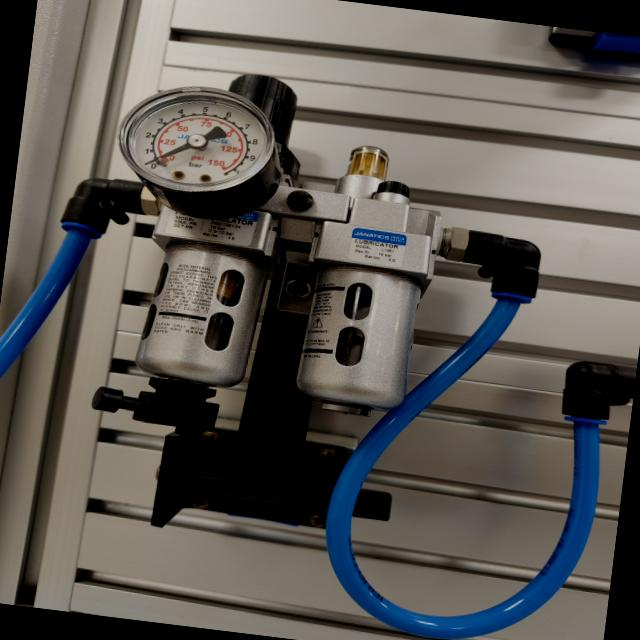FRL unit: (28, 46, 538, 574)
push button: (108, 74, 292, 226)
